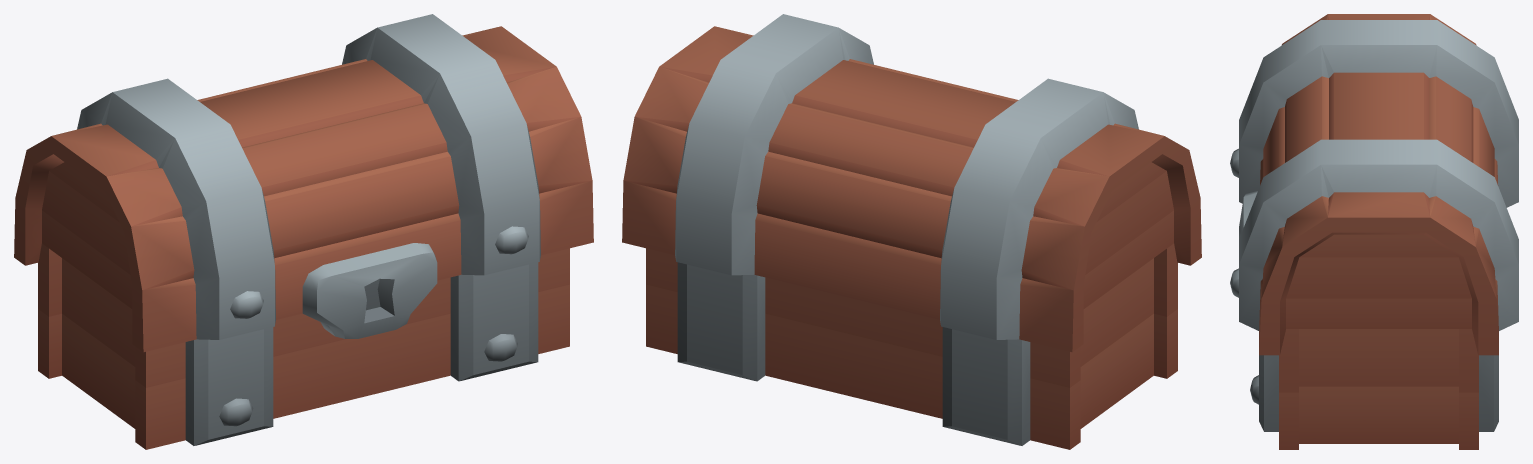
Rendered from Chest.glb.
The picture shows the model from 3 angles, left to right: view 1: azimuth 30°, elevation 25°; view 2: azimuth 150°, elevation 25°; view 3: azimuth 270°, elevation 25°; orthographic projection. The views are drawn at different scales.
Parts seen in each view (by area): view 1: chest_lid, chest; view 2: chest_lid, chest; view 3: chest_lid, chest.
Boxes of the visible parts, x1,y1,x2,y2 form: chest_lid: (14,14,593,352); chest: (38,243,569,449); chest_lid: (622,14,1201,352); chest: (646,243,1177,449); chest_lid: (1230,14,1518,355); chest: (1250,329,1498,449).
Size of the model in its own units: 1 by 0.6 by 0.6.
Materials: 1 (1 with a texture image).
